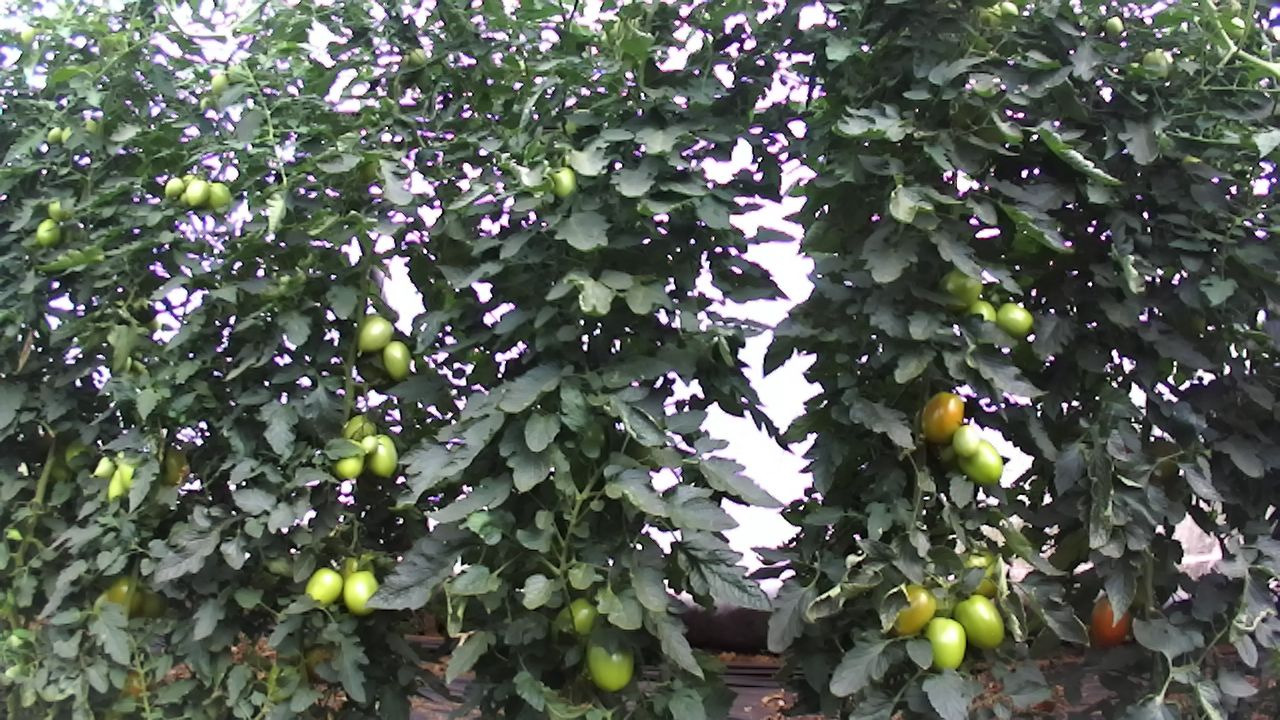tomato: (951, 589, 1006, 652), (583, 635, 639, 695), (883, 581, 938, 641), (1088, 591, 1136, 651), (918, 389, 966, 445), (925, 614, 968, 673), (953, 437, 1003, 487), (342, 568, 381, 618), (303, 565, 346, 607), (355, 313, 395, 355), (365, 431, 399, 480), (994, 300, 1035, 340), (382, 338, 411, 382), (950, 423, 980, 460), (34, 217, 63, 249), (184, 176, 211, 209), (358, 434, 380, 456)
